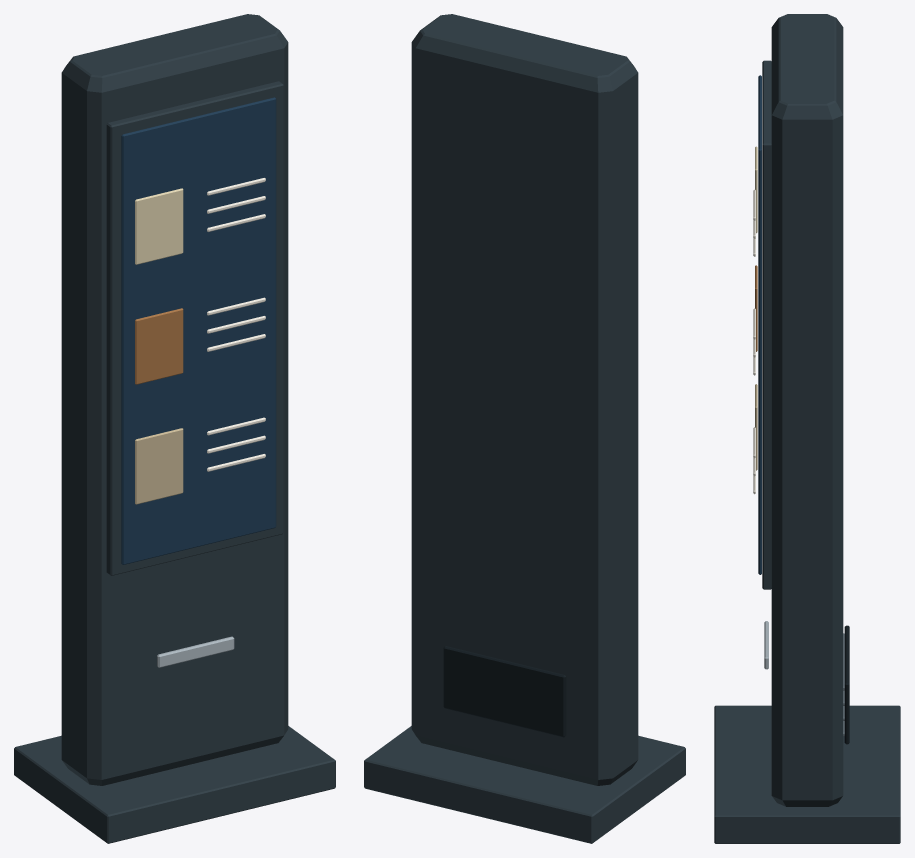
Rendered from b10_digital_restaurant_menu_totem.glb.
3 renders of one model, left to right at view 1: azimuth 30°, elevation 25°; view 2: azimuth 150°, elevation 25°; view 3: azimuth 270°, elevation 25°, orthographic.
Parts seen in each view (by area): view 1: b10_digital_restaurant_menu_totem; view 2: b10_digital_restaurant_menu_totem; view 3: b10_digital_restaurant_menu_totem.
Part boxes in pixels (<box>): b10_digital_restaurant_menu_totem: <box>14,14,335,843</box>; b10_digital_restaurant_menu_totem: <box>364,14,685,843</box>; b10_digital_restaurant_menu_totem: <box>714,14,900,843</box>.
Size of the model in its own units: 0.66 by 2.03 by 0.47.
